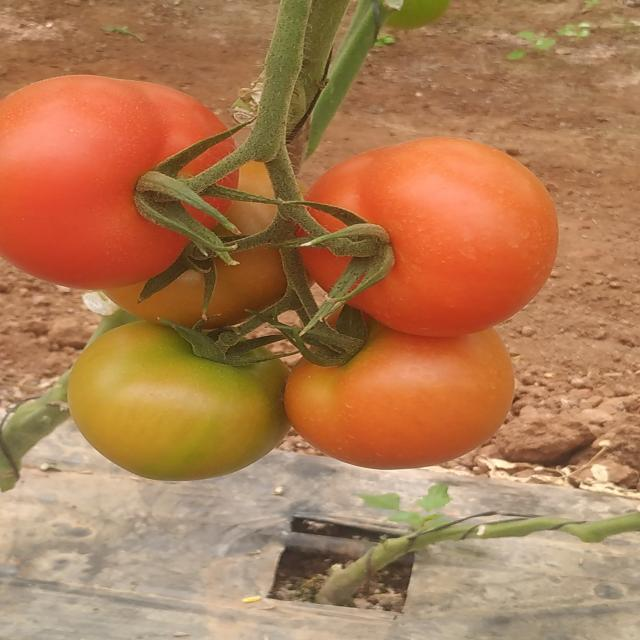Ripe Tomato: (297, 138, 570, 328), (0, 76, 237, 276), (293, 320, 516, 468)
Unripe Tomato: (56, 312, 276, 480), (220, 158, 296, 300)
